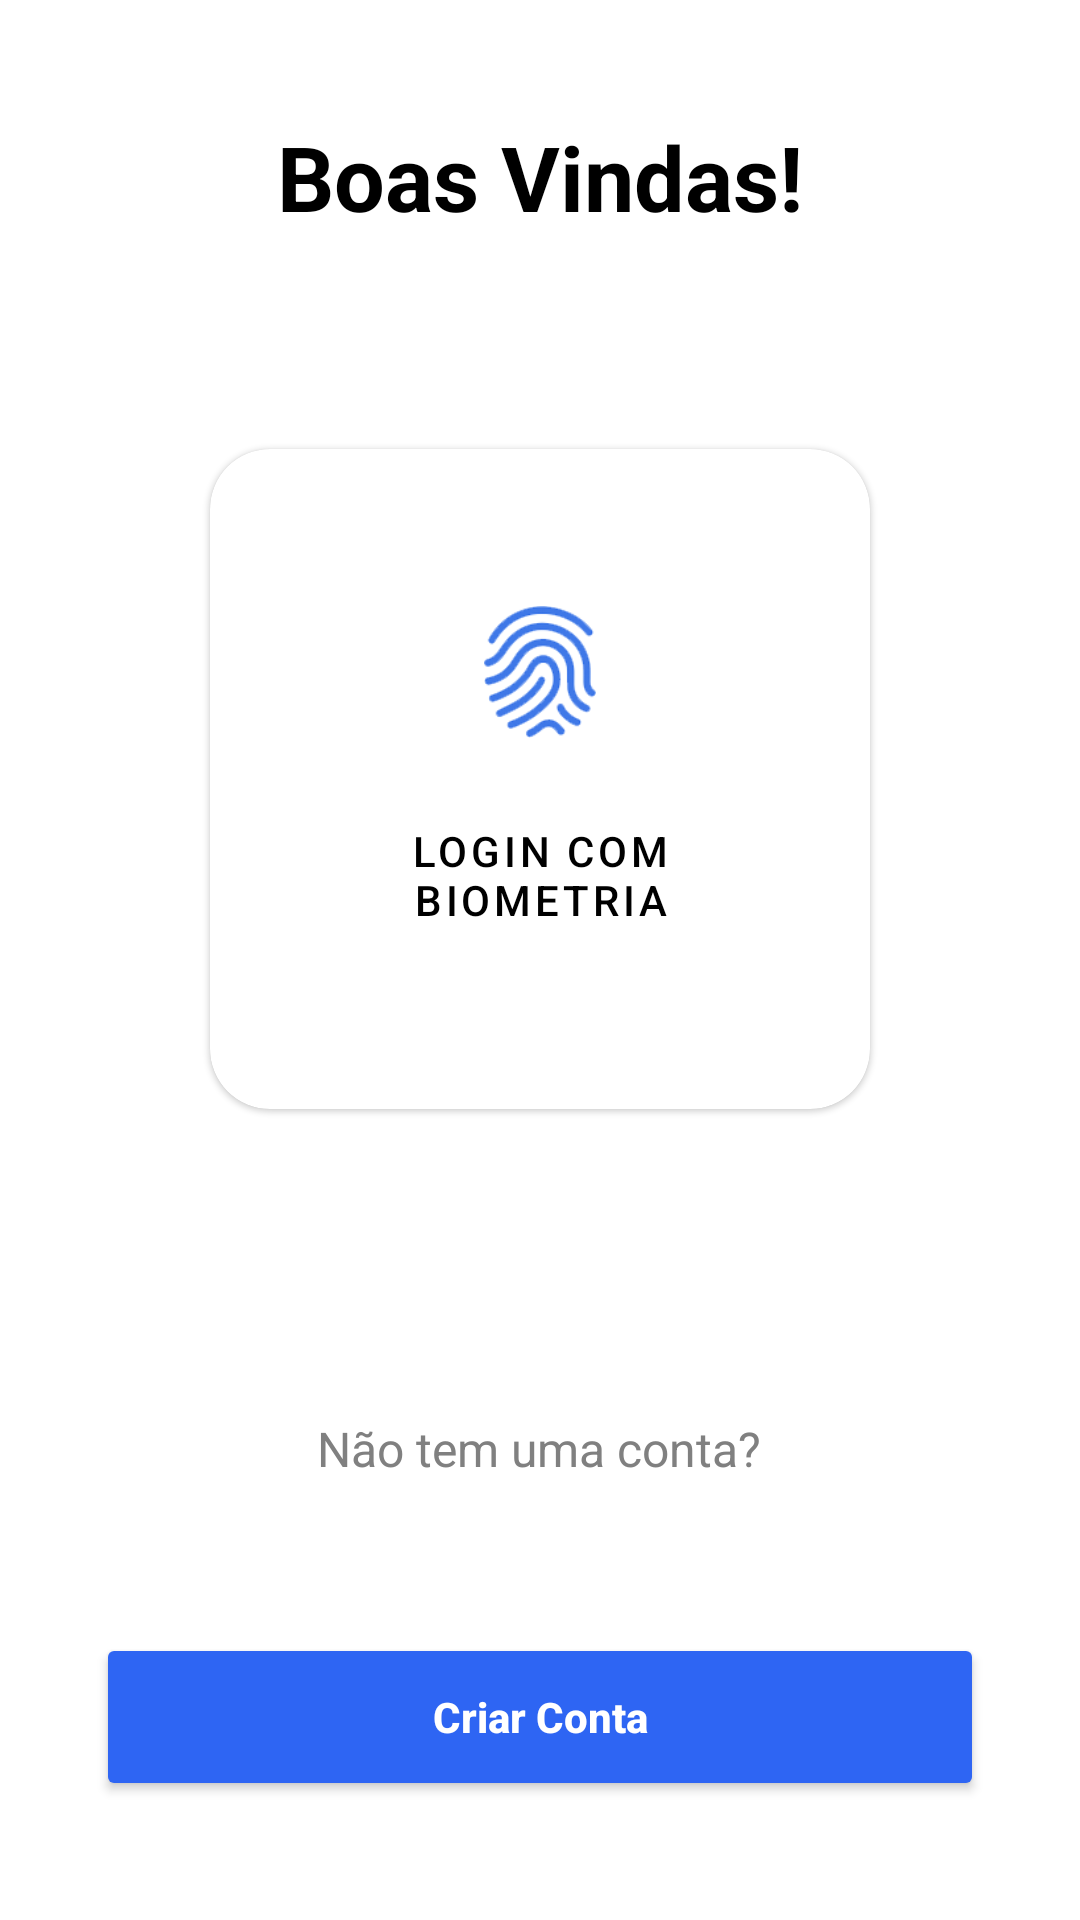

Icon click points for this 1080x1920 phone screenshot, format (x,y):
Ícone de Impressão Digital: (540,672)
